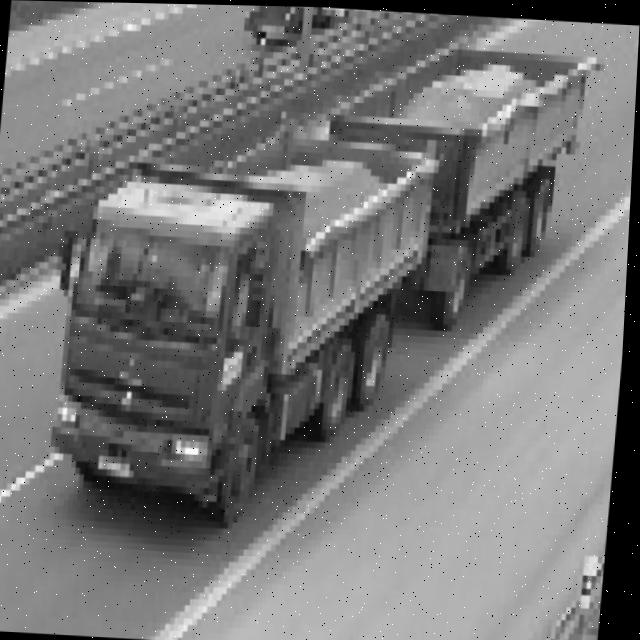truck: (38, 157, 322, 518)
